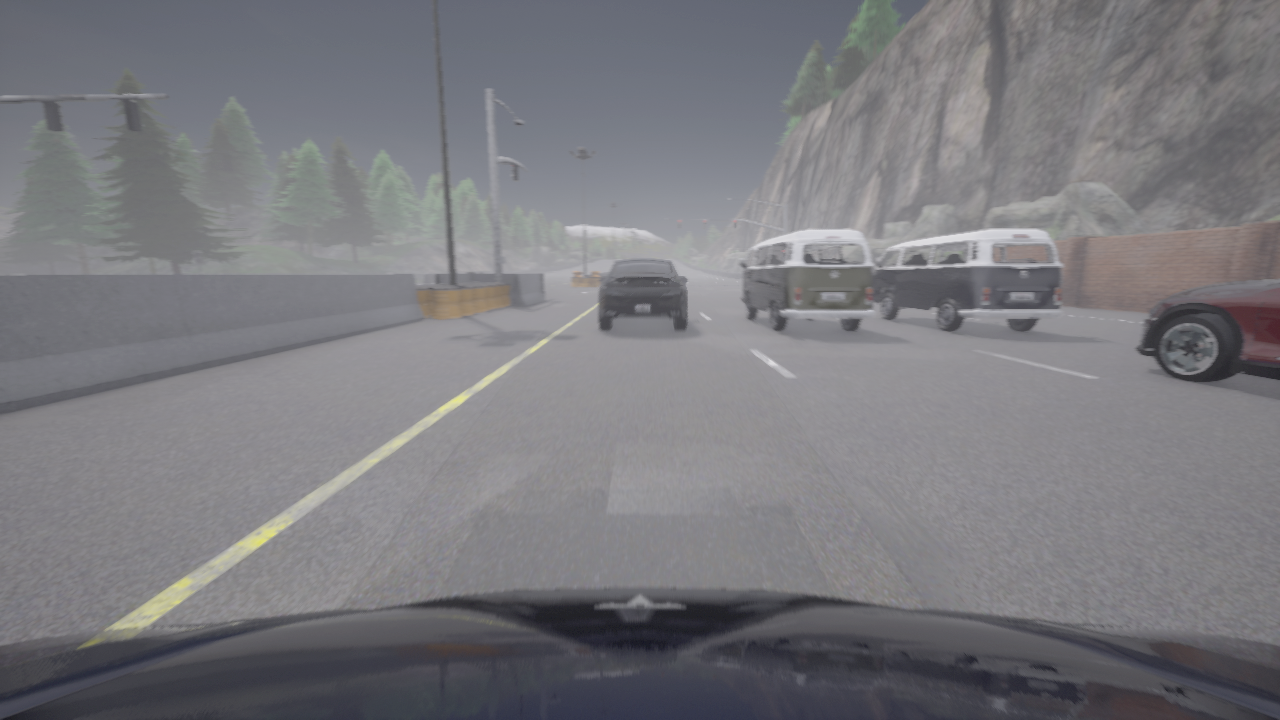cyclist: (0, 588, 1279, 719), (873, 229, 1062, 332), (1136, 280, 1279, 383), (738, 229, 874, 332), (599, 259, 686, 329)
